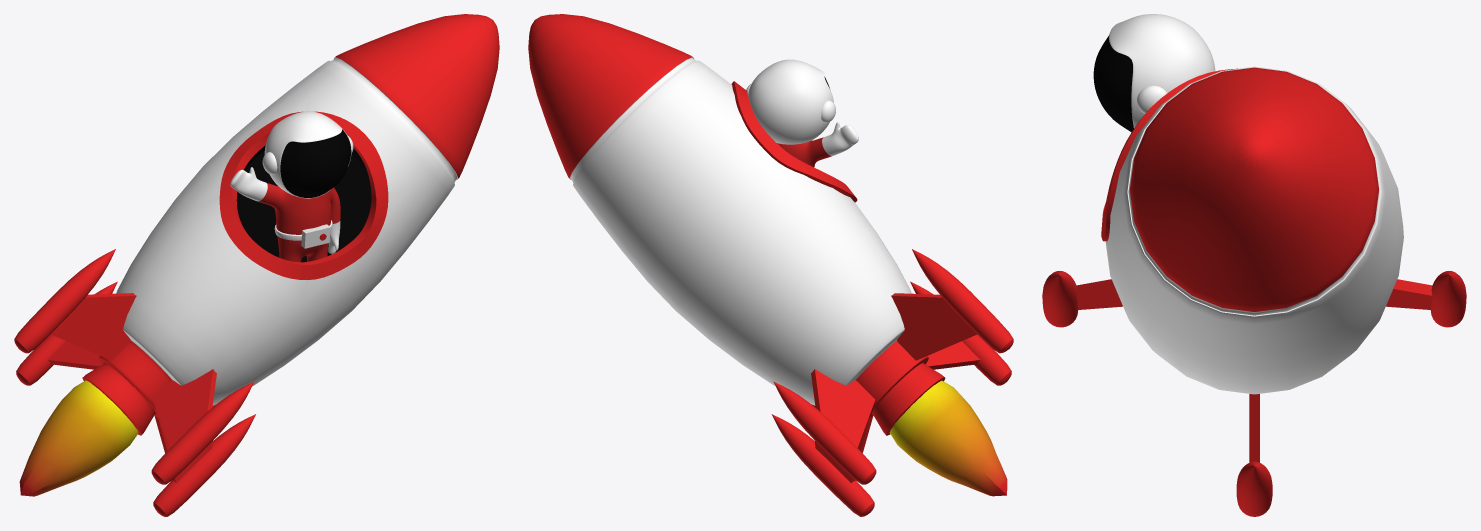
Rendered from rocket-with-astronaut0.glb.
3 renders of one model, left to right at view 1: azimuth 30°, elevation 25°; view 2: azimuth 150°, elevation 25°; view 3: azimuth 270°, elevation 25°, orthographic. The views are drawn at different scales.
Parts seen in each view (by area): view 1: Circle.004, Icosphere, Circle.003, Roundcube.006, Circle.005, Circle.006, Plane, Plane.001, Roundcube.008, Roundcube.010; view 2: Circle.004, Icosphere, Circle.005, Roundcube.006, Circle.006, Plane, Plane.001, Circle.003, Roundcube.008; view 3: Circle.004, Roundcube.006, Circle.006, Plane.001, Circle.005, Circle.003, Plane, Roundcube.007.
Boxes of the visible parts, x1,y1,x2,y2 form: Circle.004: (82,14,499,435); Icosphere: (19,380,138,496); Circle.003: (219,111,388,279); Roundcube.006: (264,111,351,198); Circle.005: (14,249,255,516); Circle.006: (16,281,254,484); Plane: (50,293,215,482); Plane.001: (48,341,216,447); Roundcube.008: (230,167,340,254); Roundcube.010: (277,236,328,262); Circle.004: (528,14,945,435); Icosphere: (889,380,1007,496); Circle.005: (771,249,1013,516); Roundcube.006: (748,59,833,144); Circle.006: (773,281,1011,484); Plane: (812,293,977,483); Plane.001: (811,341,979,447); Circle.003: (731,81,857,202); Roundcube.008: (777,122,858,167); Circle.004: (1105,66,1403,394); Roundcube.006: (1093,14,1215,132); Circle.006: (1042,271,1466,327); Plane.001: (1076,279,1432,309); Circle.005: (1236,461,1272,516); Circle.003: (1101,68,1237,241); Plane: (1249,394,1259,462); Roundcube.007: (1137,85,1167,113).
Size of the model in its own units: 2.68 by 2.28 by 1.44.
Materials: 7 (1 with a texture image).
